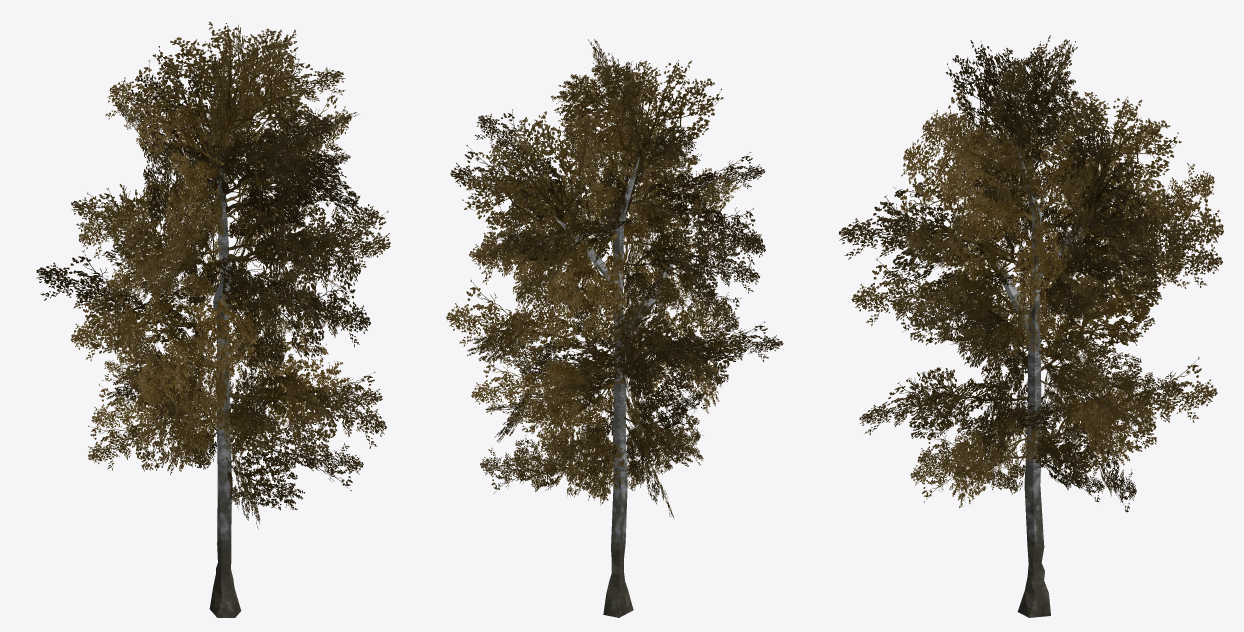
Rendered from listnac_p0.glb.
3 views of the same model, side by side, from view 1: azimuth 30°, elevation 25°; view 2: azimuth 150°, elevation 25°; view 3: azimuth 270°, elevation 25° (orthographic). The views are drawn at different scales.
Visible parts, largest first — view 1: Tree_Branches_02_Tree_Branches_02_0, Tree_Trunk_02_Tree_Trunk_02_0; view 2: Tree_Branches_02_Tree_Branches_02_0, Tree_Trunk_02_Tree_Trunk_02_0; view 3: Tree_Branches_02_Tree_Branches_02_0, Tree_Trunk_02_Tree_Trunk_02_0.
Part boxes in pixels (x1,y1,x2,y2): Tree_Branches_02_Tree_Branches_02_0: (36, 21, 390, 529); Tree_Trunk_02_Tree_Trunk_02_0: (209, 139, 241, 617); Tree_Branches_02_Tree_Branches_02_0: (446, 39, 783, 518); Tree_Trunk_02_Tree_Trunk_02_0: (554, 157, 682, 617); Tree_Branches_02_Tree_Branches_02_0: (838, 35, 1223, 512); Tree_Trunk_02_Tree_Trunk_02_0: (976, 130, 1116, 617).
Bounding box in the file's own units: 4.43 × 7.95 × 5.13.
2 materials, 2 textured.
